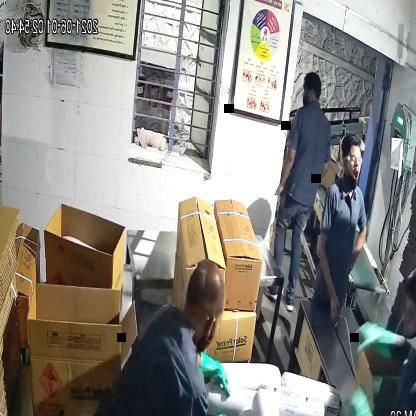goggles: (336, 146, 368, 174)
